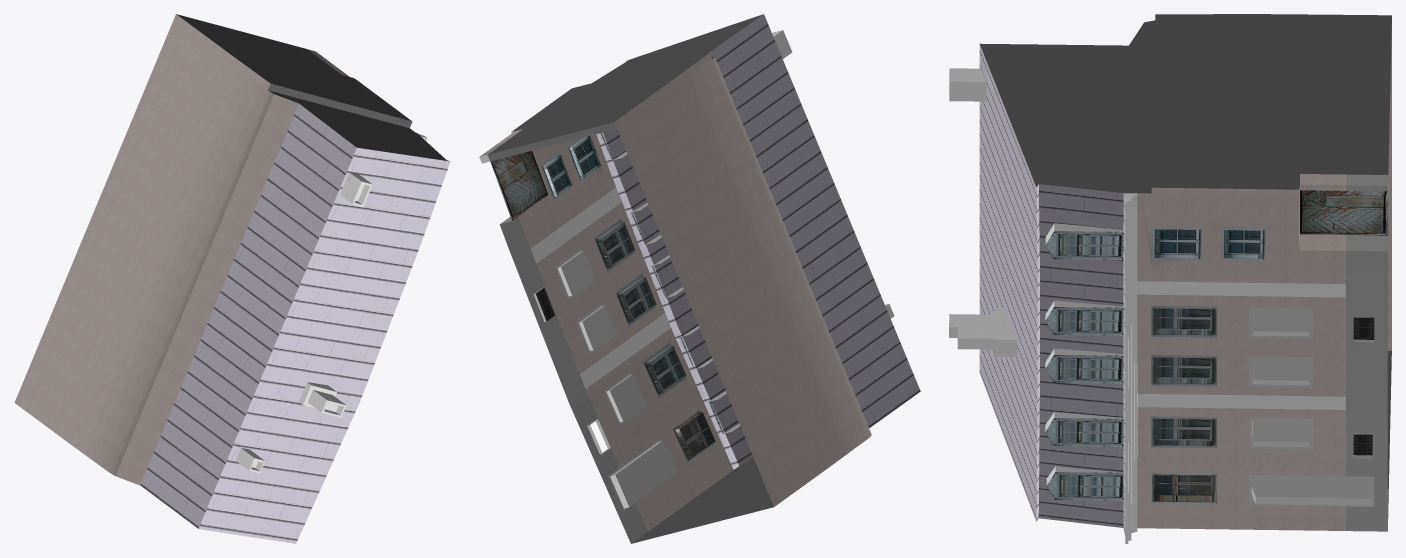
File: Myyrivahe_25.obj
3 renders of one model, left to right at view 1: azimuth 30°, elevation 25°; view 2: azimuth 150°, elevation 25°; view 3: azimuth 270°, elevation 25°, orthographic. The views are drawn at different scales.
Parts seen in each view (by area): view 1: Myyrivahe_25; view 2: Myyrivahe_25; view 3: Myyrivahe_25.
Part boxes in pixels (x1,y1,x2,y2): Myyrivahe_25: [14, 14, 450, 543]; Myyrivahe_25: [479, 14, 920, 543]; Myyrivahe_25: [949, 14, 1391, 543].
Size of the model in its own units: 13.35 by 18.01 by 13.45.
